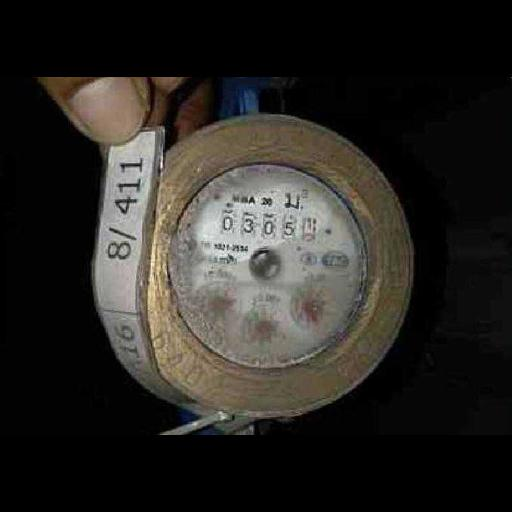0: (221, 210, 238, 235), (263, 215, 277, 238)
1: (303, 219, 316, 242)
3: (243, 214, 257, 237)
5: (283, 217, 297, 240)
border_water_meter_number: (219, 208, 318, 244)
